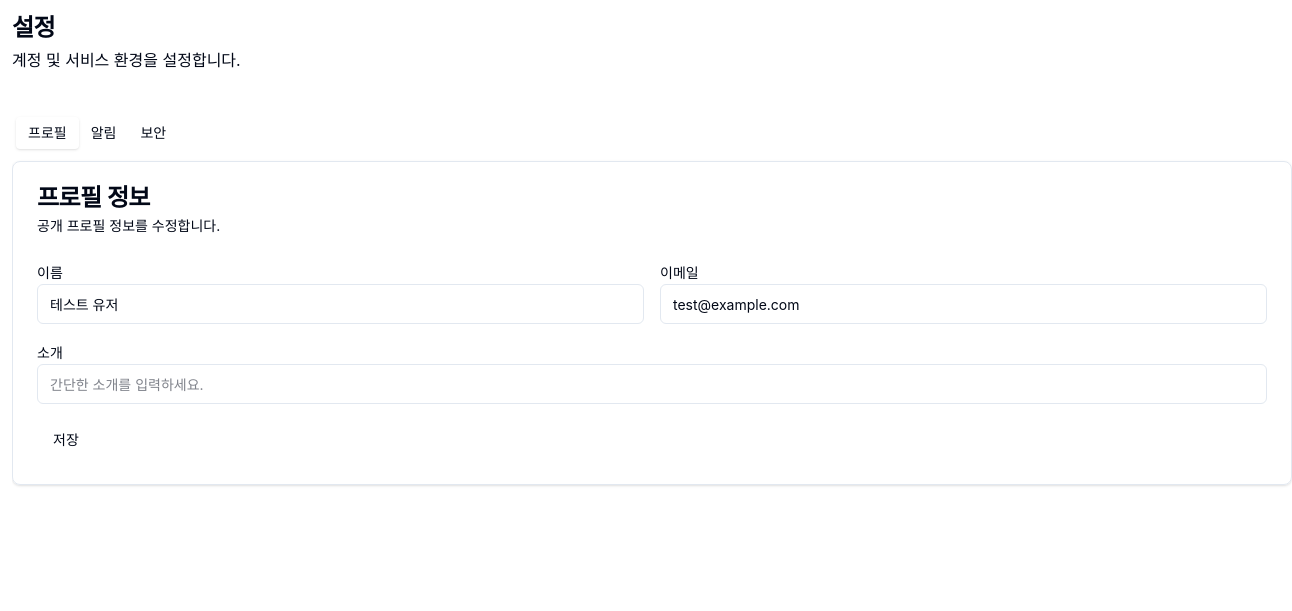
Test: SettingsPage › security tab › shows error when new password is too short (less than 8 chars)
Click the tab "보안" at (153, 133), box [128,117,178,149]
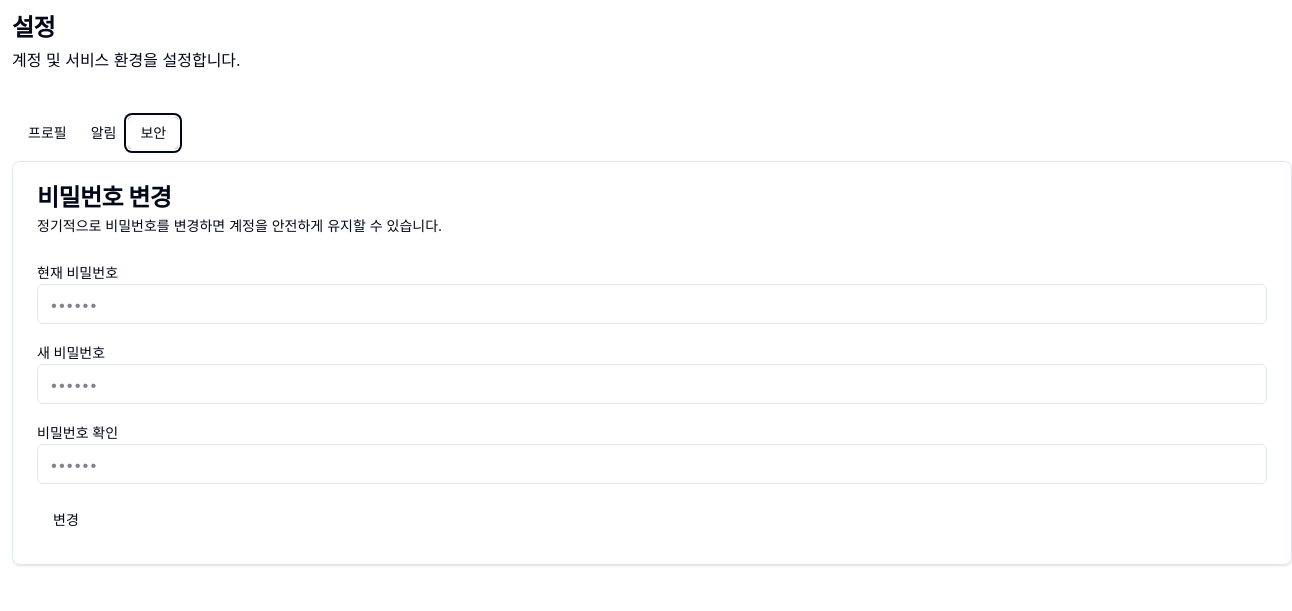
Type "currentpass" into the password field labelled "현재 비밀번호" at (652, 304), box [37,284,1267,324]
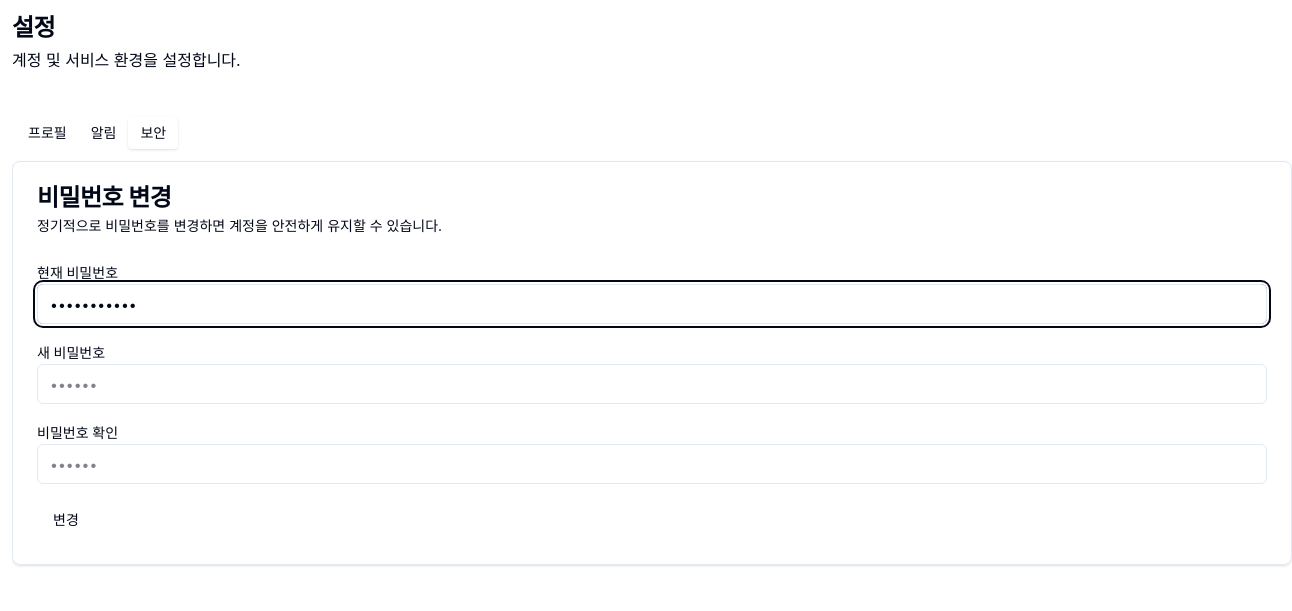
Type "short" into the password field labelled "새 비밀번호" at (652, 384), box [37,364,1267,404]
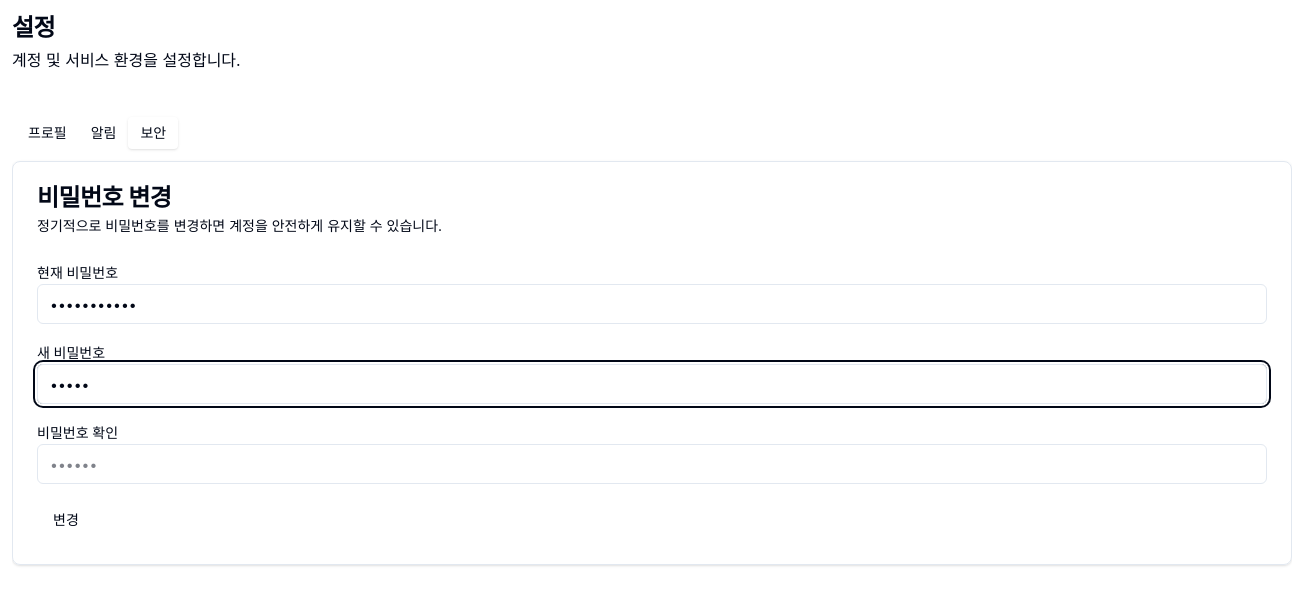
Type "short" into the password field labelled "비밀번호 확인" at (652, 464), box [37,444,1267,484]
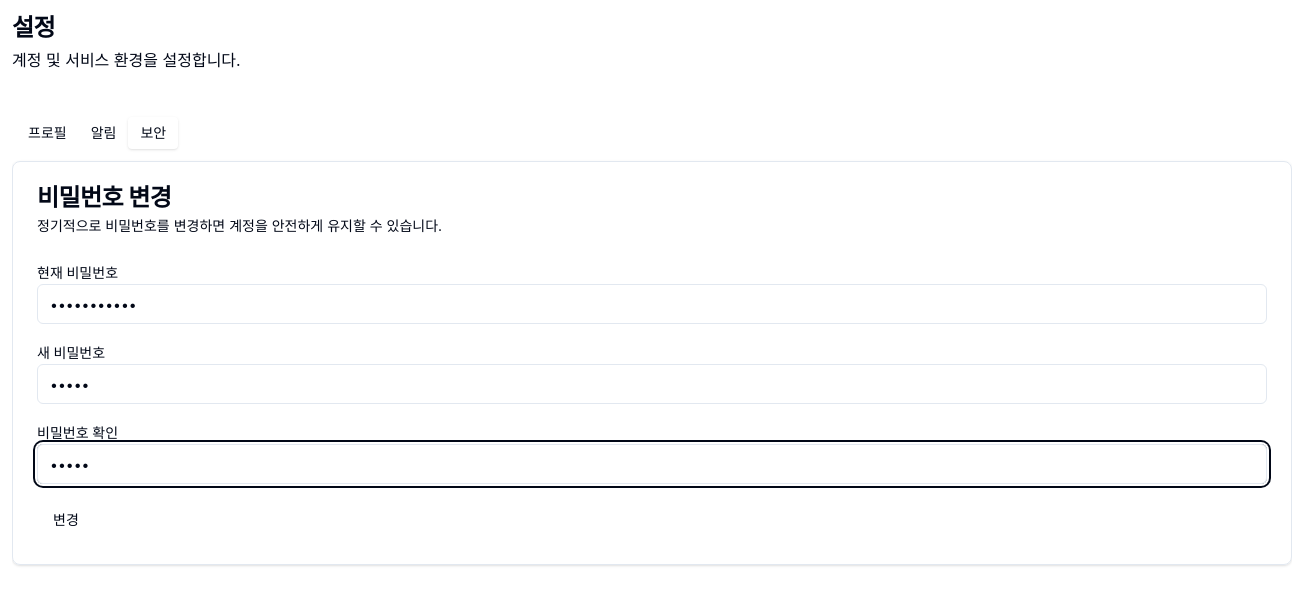
Click the button "변경" at (66, 520), box [37,500,95,540]
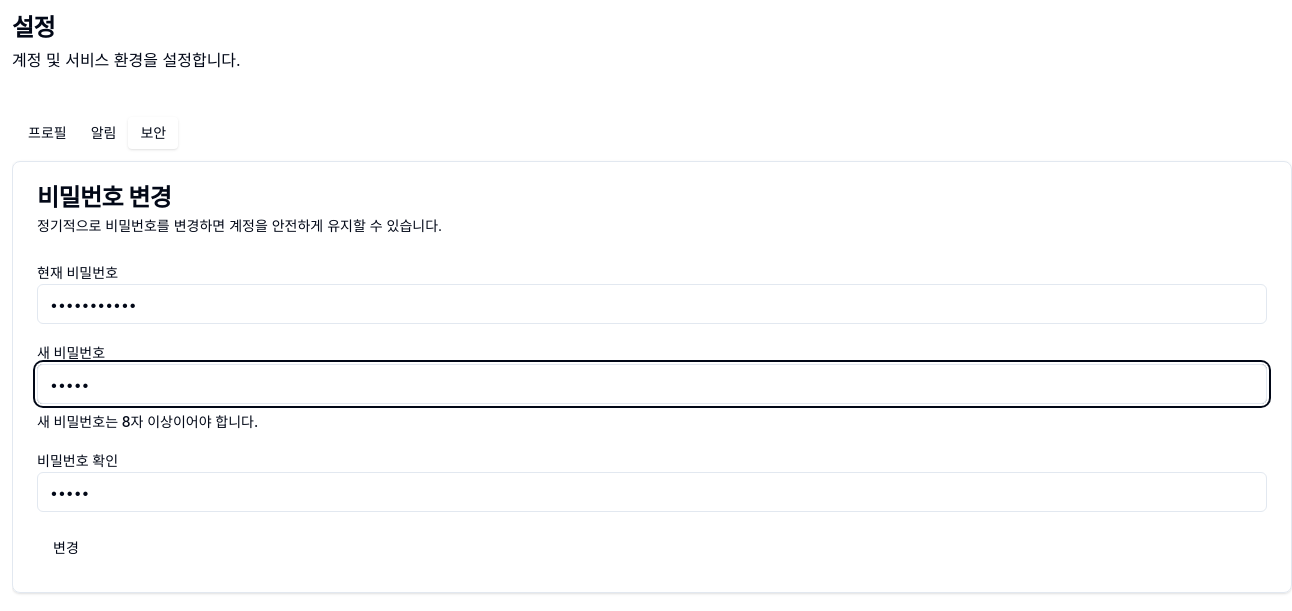
Now the text "새 비밀번호는 8자 이상이어야 합니다." is shown, box [37,413,258,430]
